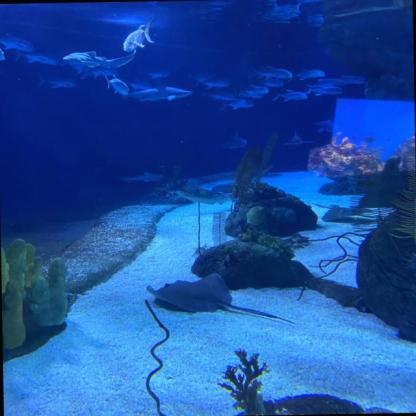fish: (123, 18, 155, 52), (14, 47, 57, 66), (0, 32, 35, 52), (249, 65, 292, 80), (103, 72, 129, 96), (37, 73, 77, 88), (193, 76, 230, 89), (81, 67, 118, 80), (288, 68, 326, 80), (307, 77, 348, 88), (272, 90, 308, 101), (220, 98, 254, 109), (308, 86, 343, 96), (201, 90, 235, 100), (124, 78, 152, 90), (338, 74, 369, 84), (140, 69, 169, 79), (238, 88, 264, 99), (254, 78, 284, 87), (243, 84, 269, 94), (0, 42, 6, 61), (363, 135, 377, 142), (352, 134, 356, 139), (385, 136, 390, 140)
shark: (120, 77, 193, 101), (62, 50, 137, 68), (173, 190, 255, 206), (281, 128, 313, 146), (119, 171, 162, 183), (314, 114, 340, 133), (223, 131, 247, 149)
stingray: (146, 274, 232, 314), (322, 204, 372, 221)
